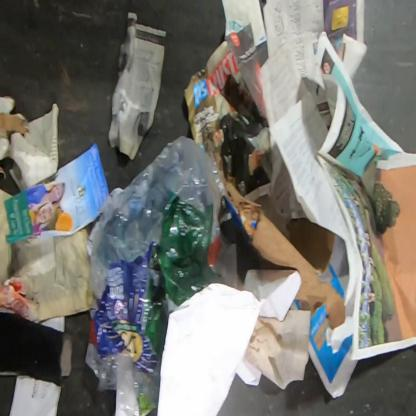cardboard: (224, 180, 347, 331), (0, 312, 74, 386), (244, 268, 302, 322)
soft_plastic: (83, 134, 244, 415)
